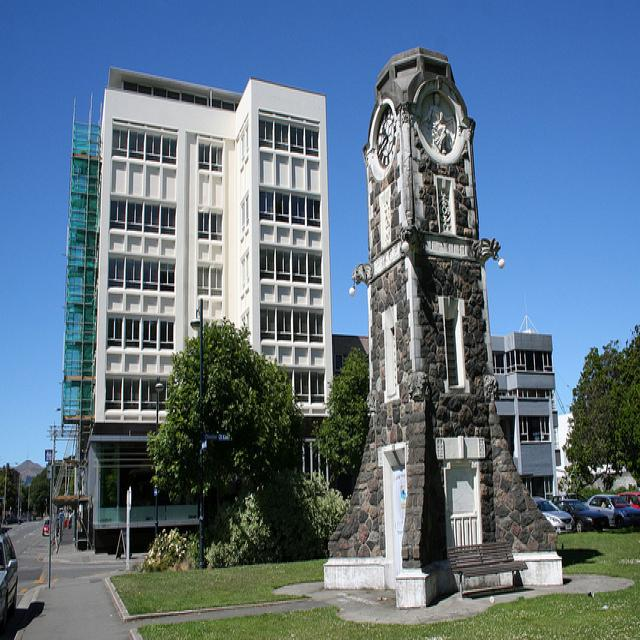Vehicle: (553, 498, 610, 534), (584, 493, 640, 528), (0, 531, 19, 631), (532, 496, 574, 532), (620, 492, 640, 509), (42, 518, 50, 536)
